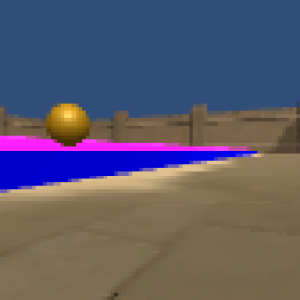goodGoalMulti: (45, 102, 90, 147)
platform: (1, 151, 256, 189)
ramp: (1, 137, 219, 151)
